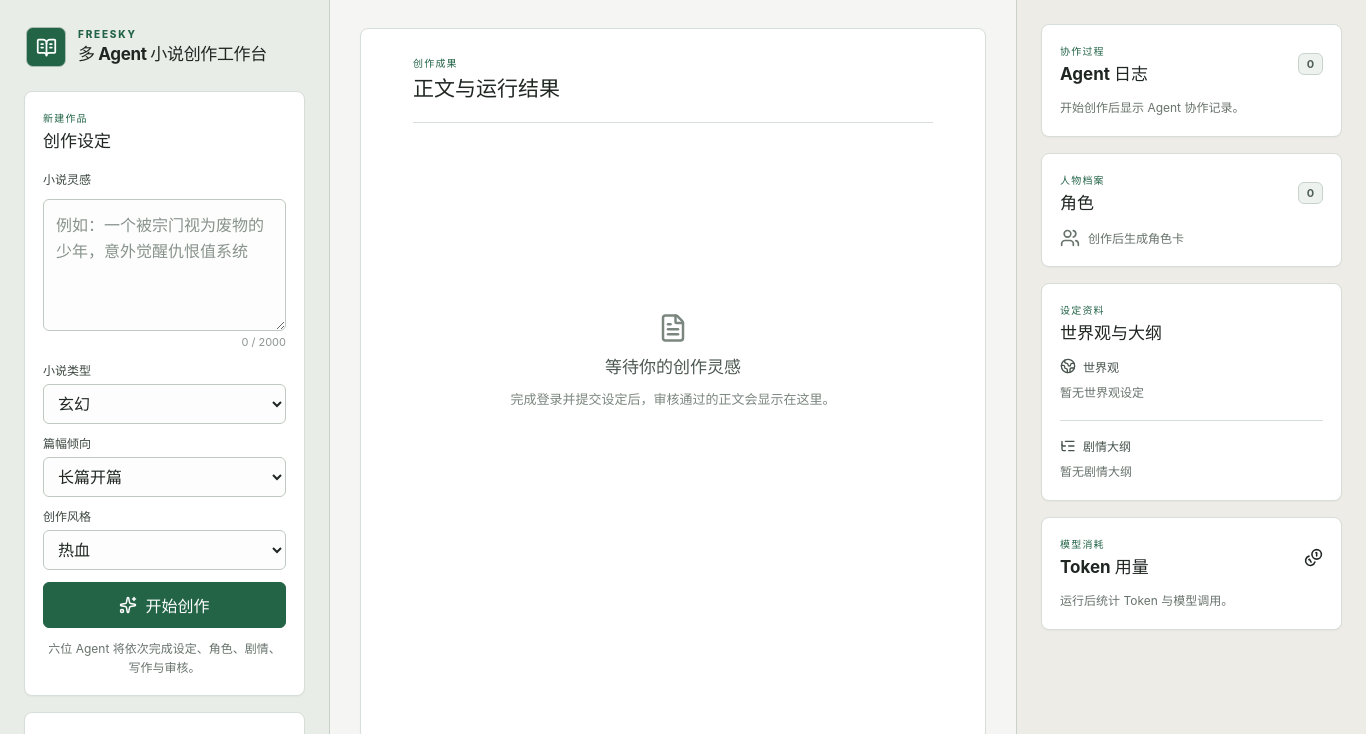
Freesky 创作工作台 › 创作未完成时展示草稿、审核问题和审核轮次
Type "荒漠中的文明复苏" into the text box labelled "小说灵感" at (164, 265), box [43,199,286,331]
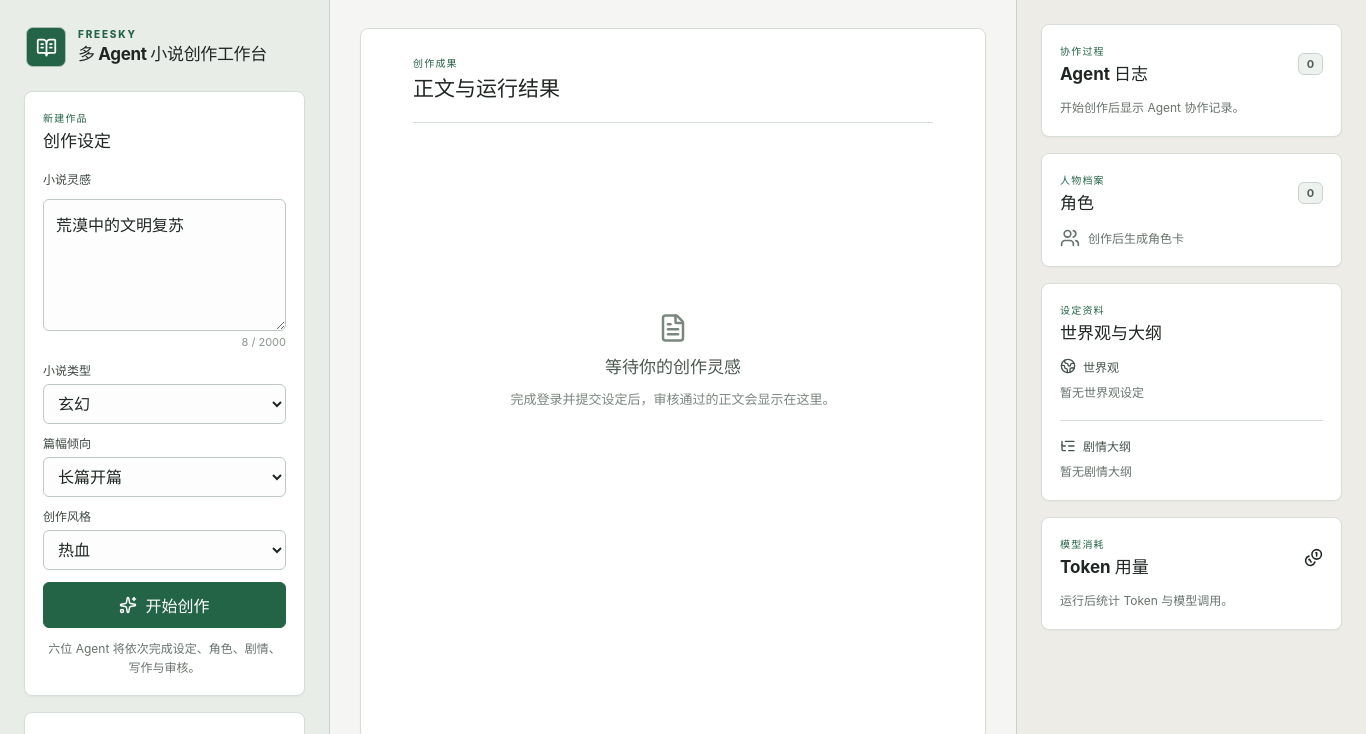
Click the button "开始创作" at (164, 605), box [43,582,286,628]
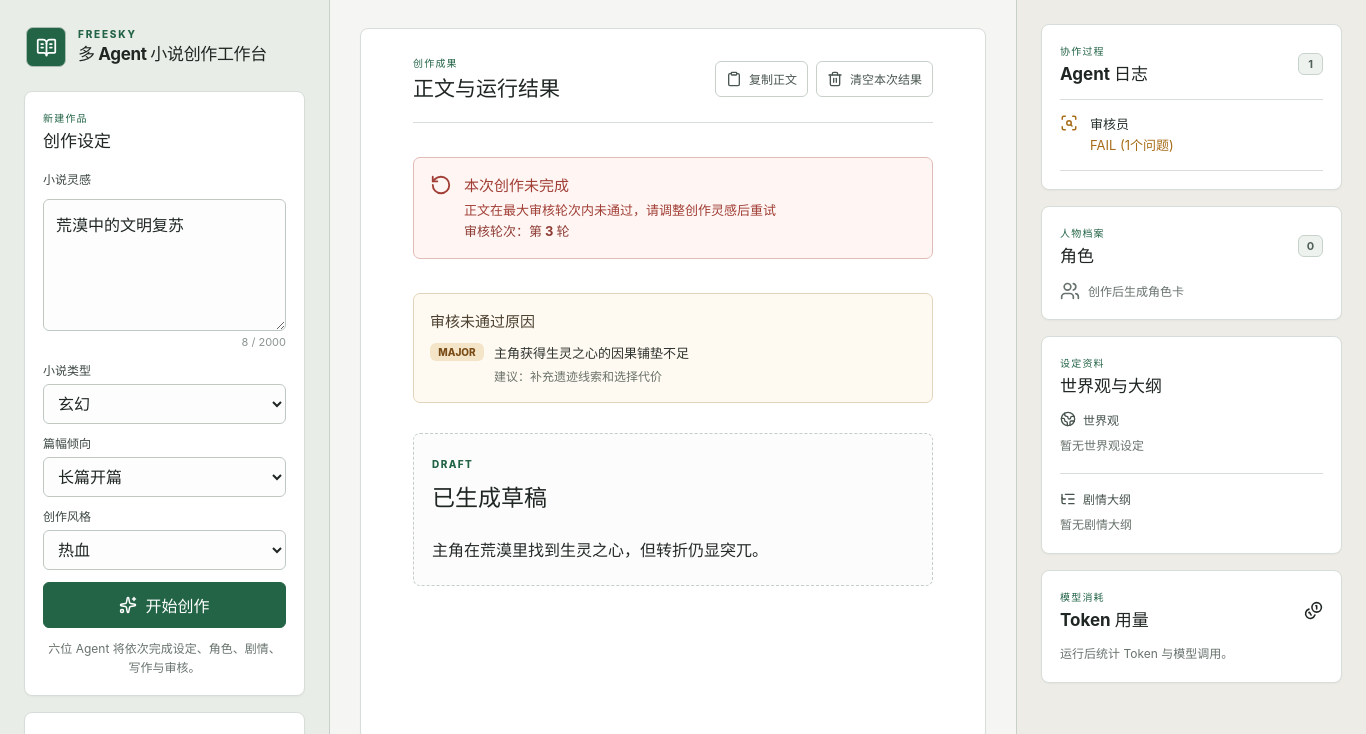
Expected: the heading "本次创作未完成" is shown, [464,176,569,195]
Expected: the text "审核轮次：第 3 轮" is shown, [464,223,570,239]
Expected: the text "主角在荒漠里找到生灵之心，但转折仍显突兀。" is shown, [432,542,768,559]
